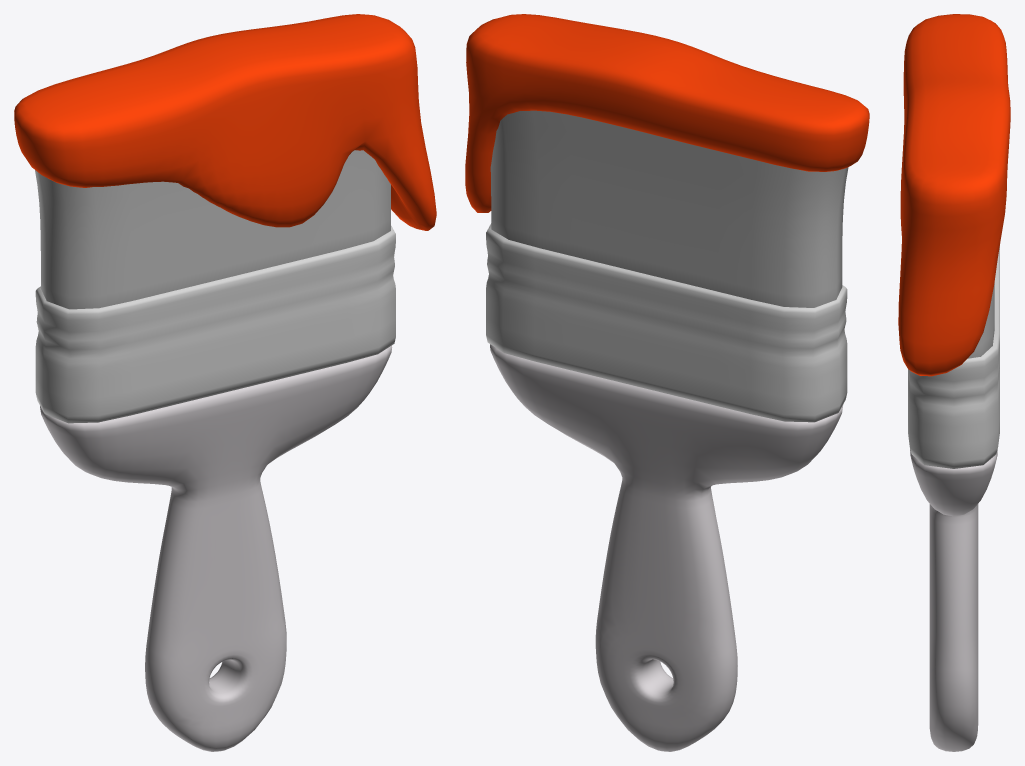
Rendered from motion.glb.
3 renders of one model, left to right at view 1: azimuth 30°, elevation 25°; view 2: azimuth 150°, elevation 25°; view 3: azimuth 270°, elevation 25°, orthographic. The views are drawn at different scales.
Parts seen in each view (by area): view 1: brush; view 2: brush; view 3: brush.
Part boxes in pixels (<box>): brush: <box>14,14,436,751</box>; brush: <box>465,14,869,751</box>; brush: <box>898,14,1010,751</box>.
Bounding box in the file's own units: 1.49 × 2.49 × 0.3829.
